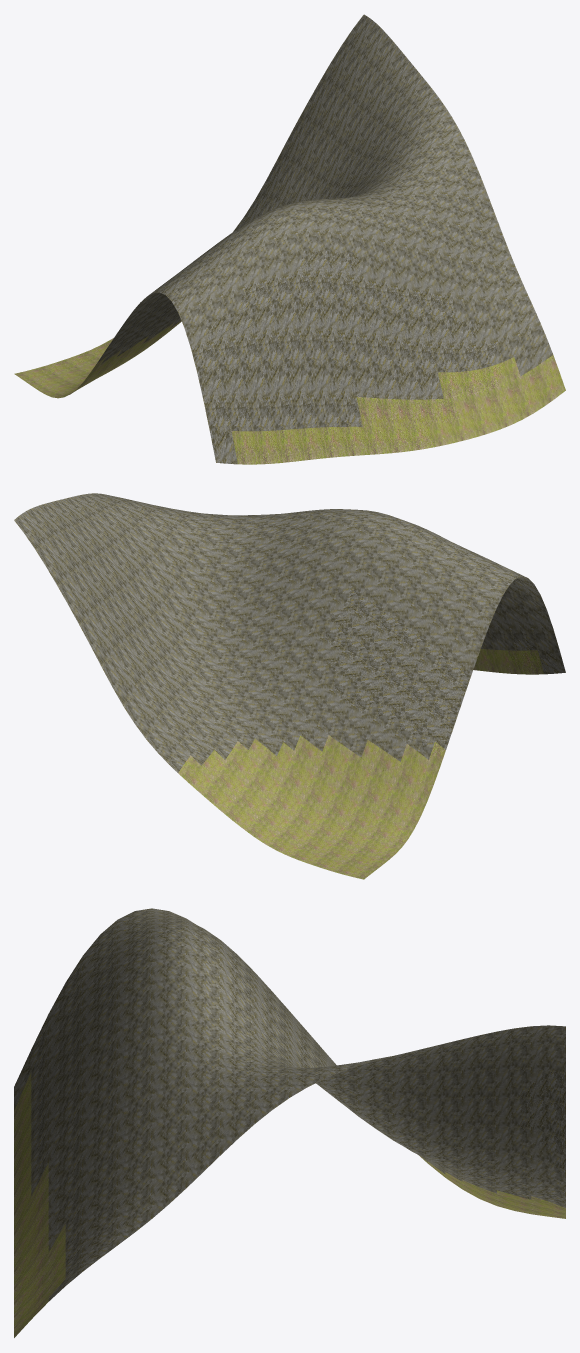
Rendered from chunk_1_3.glb.
3 views of the same model, one above another, from view 1: azimuth 30°, elevation 25°; view 2: azimuth 150°, elevation 25°; view 3: azimuth 270°, elevation 25° (orthographic). The views are drawn at different scales.
Parts seen in each view (by area): view 1: chunk_1_3-col; view 2: chunk_1_3-col; view 3: chunk_1_3-col.
Part boxes in pixels (<box>): chunk_1_3-col: <box>14,14,565,464</box>; chunk_1_3-col: <box>14,493,565,879</box>; chunk_1_3-col: <box>14,908,565,1337</box>.
Size of the model in its own units: 64 by 48.05 by 64.
Materials: 2 (2 with a texture image).
